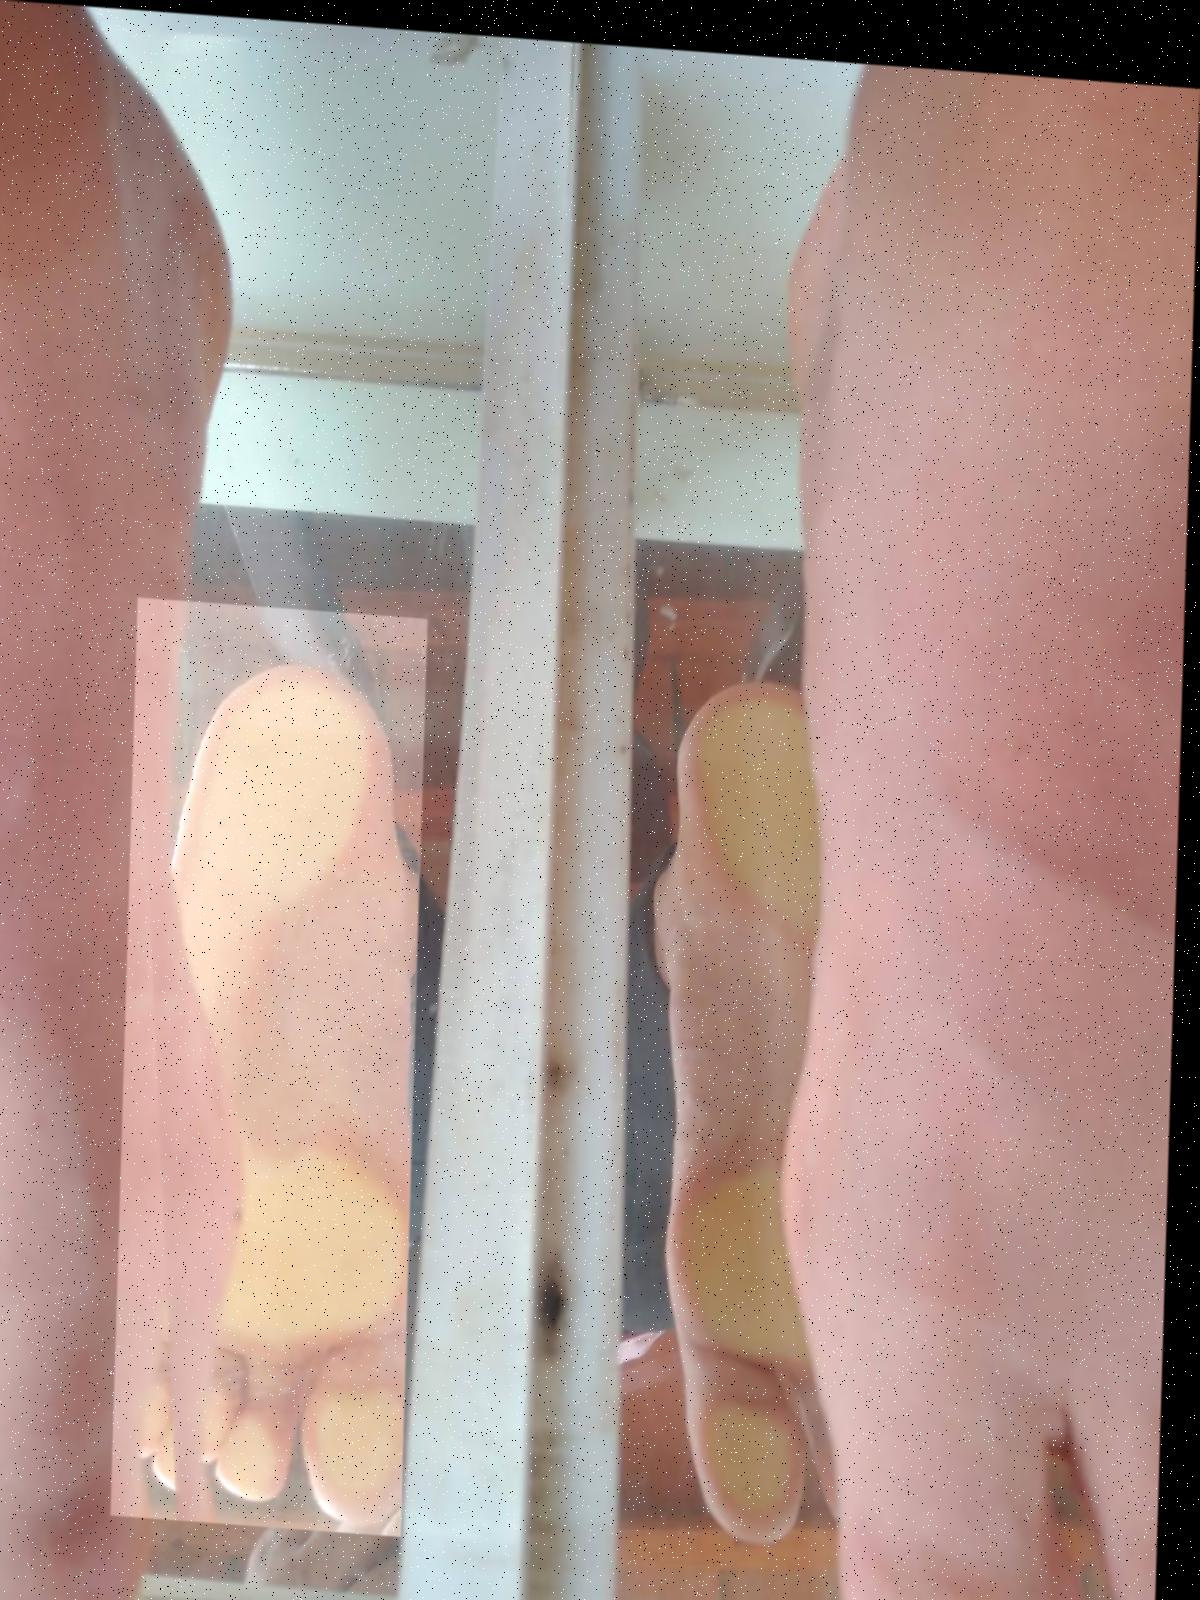Present: (121, 595, 434, 1531)
